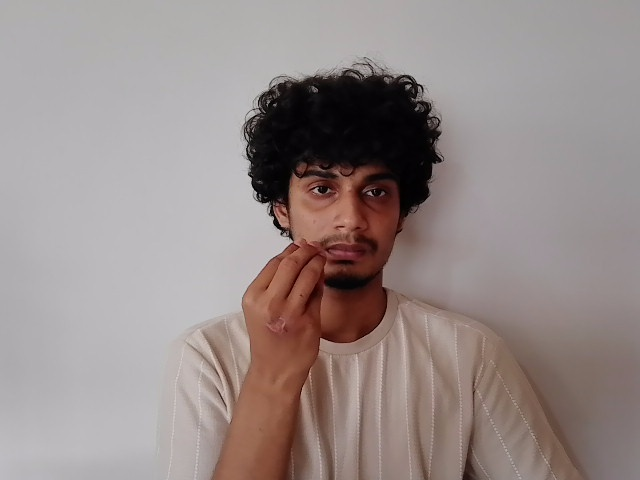eat: (242, 159, 406, 367)
